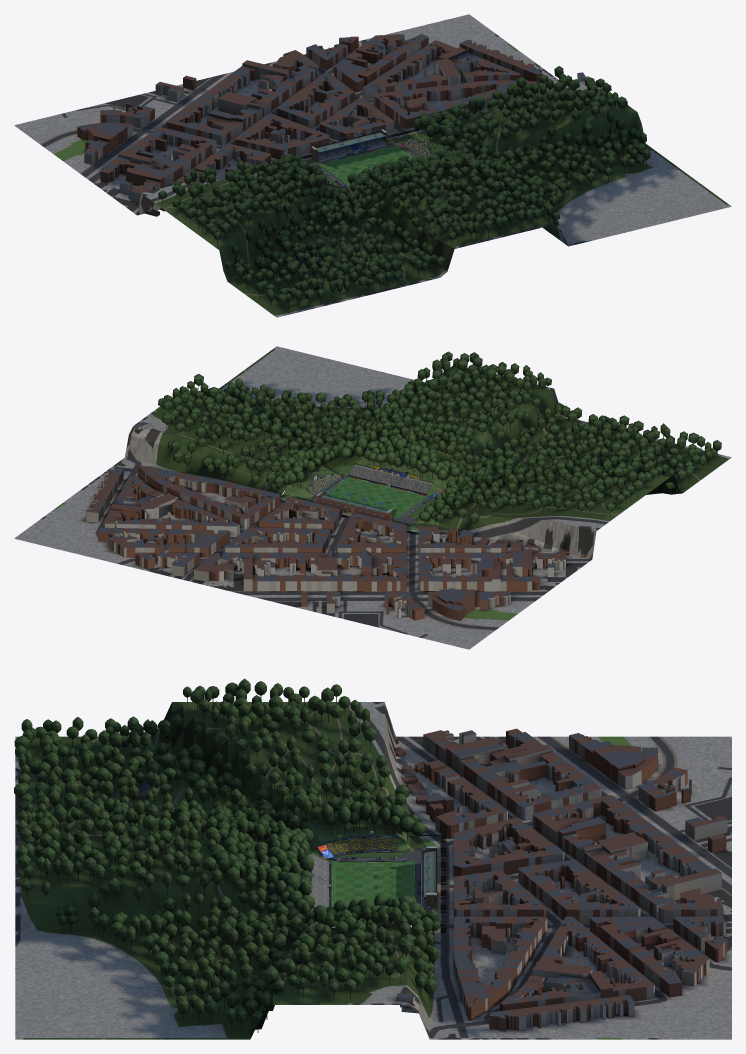
The model's file is joseph_marien.glb.
3 views of the same model, one above another, from view 1: azimuth 30°, elevation 25°; view 2: azimuth 150°, elevation 25°; view 3: azimuth 270°, elevation 25° (orthographic). The views are drawn at different scales.
Visible parts, largest first — view 1: StadiumBackdrop, StadeJosephMarien; view 2: StadiumBackdrop, StadeJosephMarien; view 3: StadiumBackdrop, StadeJosephMarien.
Boxes of the visible parts, left/top/right/bottom form: StadiumBackdrop: left=14, top=14, right=731, bottom=317; StadeJosephMarien: left=270, top=127, right=480, bottom=210; StadiumBackdrop: left=14, top=346, right=731, bottom=649; StadeJosephMarien: left=280, top=448, right=475, bottom=534; StadiumBackdrop: left=14, top=678, right=731, bottom=1039; StadeJosephMarien: left=270, top=821, right=446, bottom=935.
Size of the model in its own units: 641 by 61.53 by 641.
Materials: 56 (20 with a texture image).
